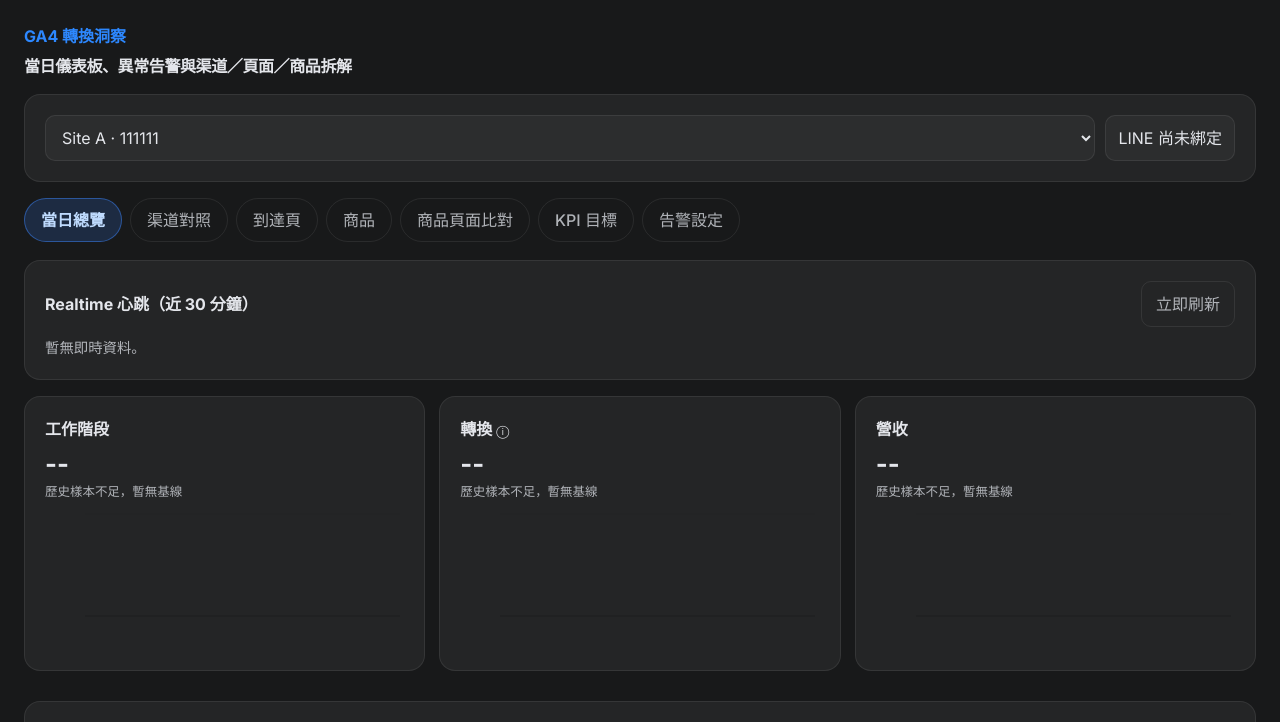
Test case: GA4Insights（docs/66 分頁狀態抽 hook） › 切換 GA4 屬性會清掉兩個分頁的快照與篩選，回到該分頁時重新載入
Click the button "到達頁": coordinates (277, 220) left=236, top=198, right=318, bottom=242
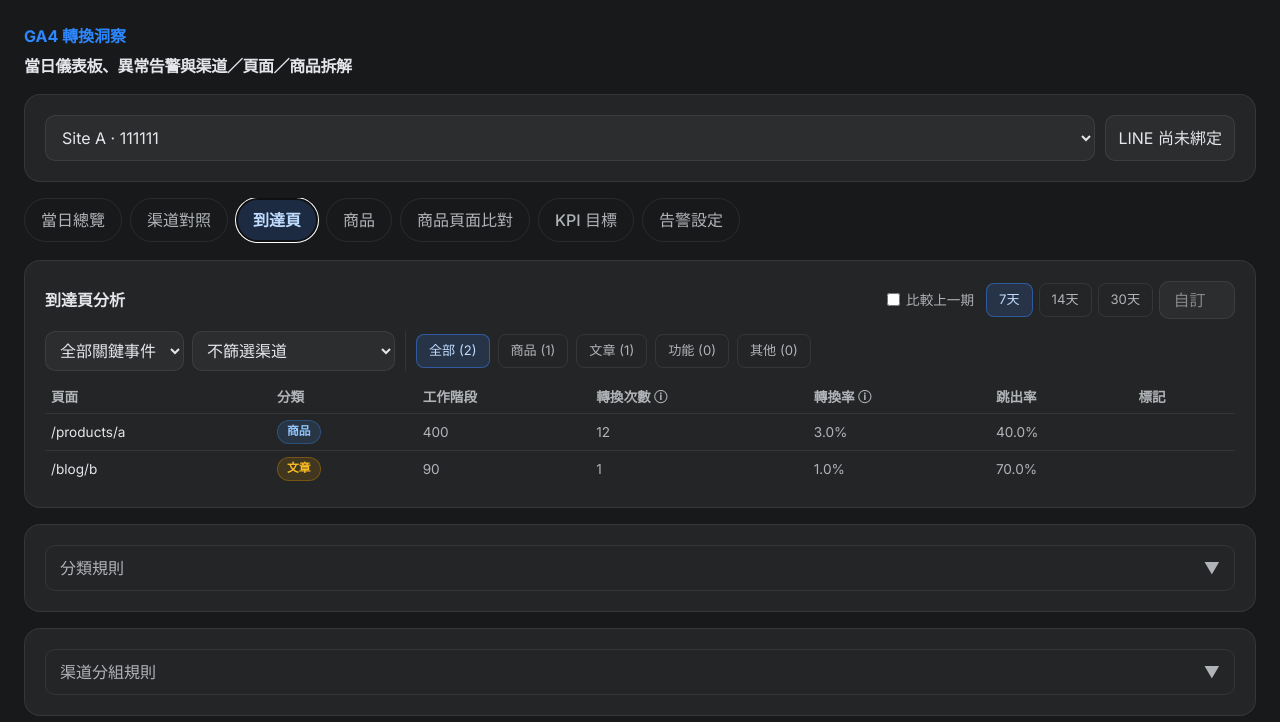
Click the button "文章 (1)": coordinates (612, 351) left=576, top=334, right=647, bottom=368
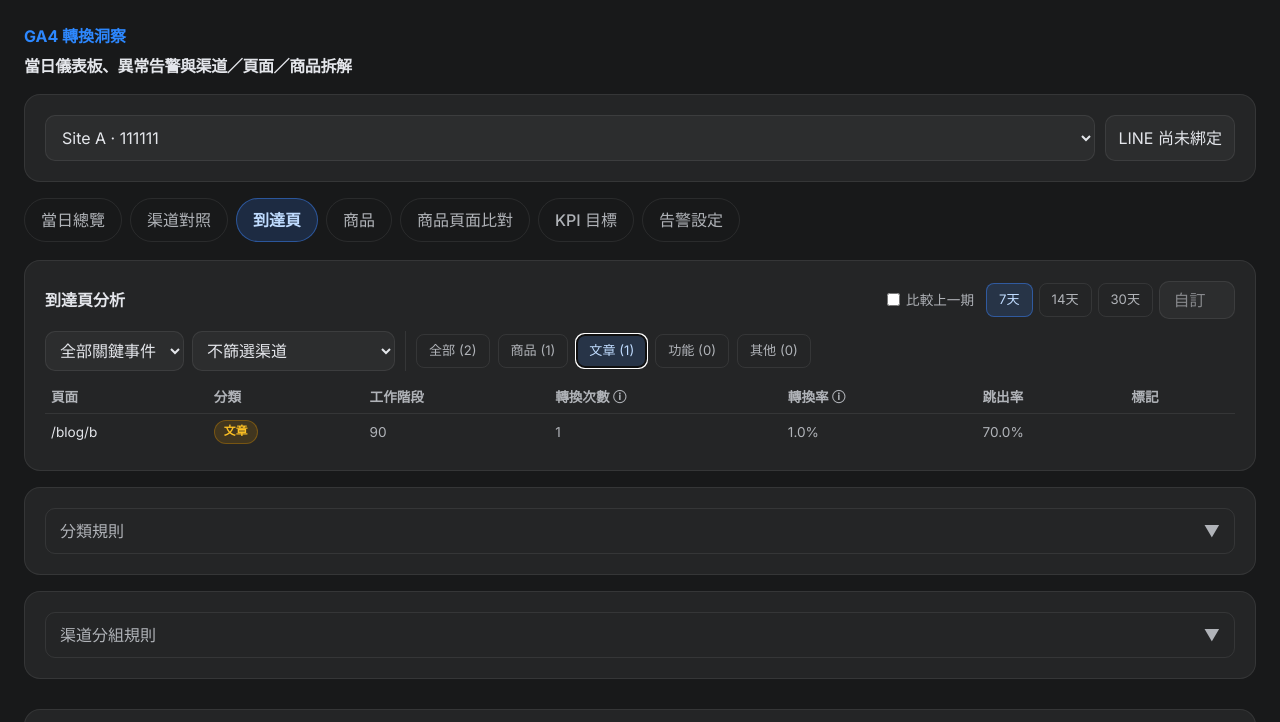
Select "Site B · 222222" in the dropdown next to "LINE 尚未綁定": coordinates (570, 138) left=45, top=115, right=1096, bottom=161
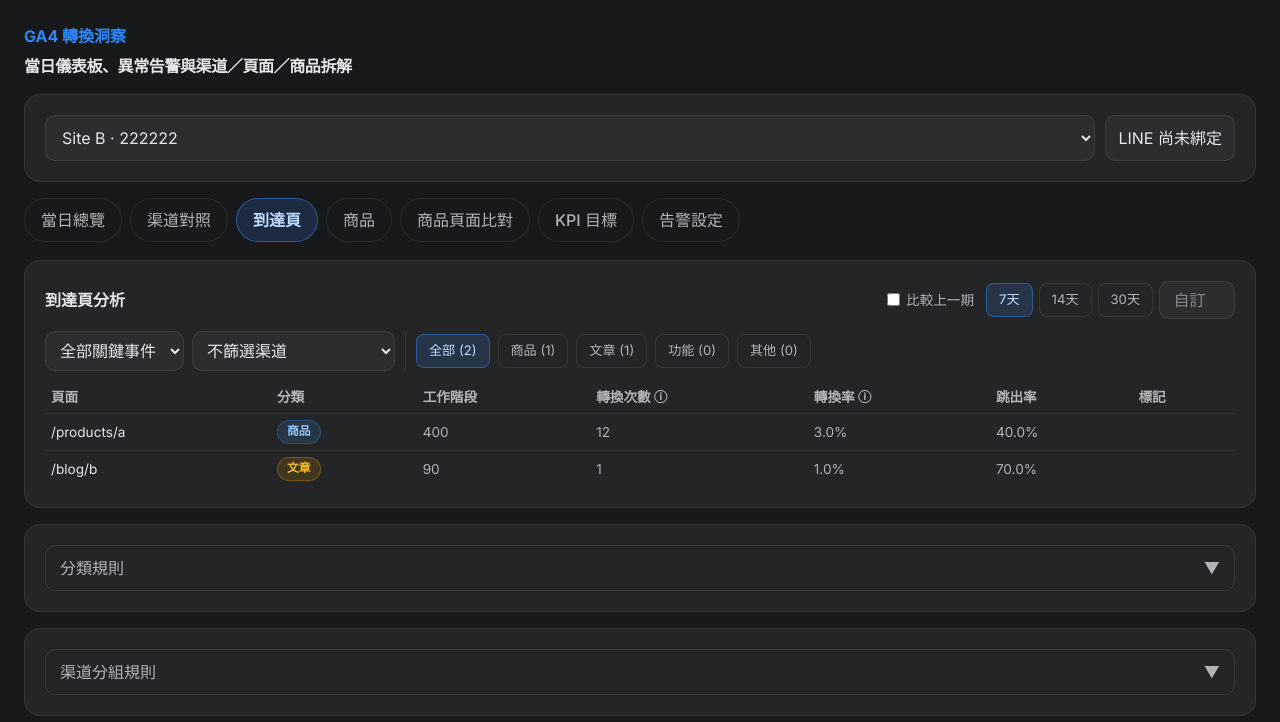
Result: the text "/blog/b" is shown at left=45, top=451, right=271, bottom=487
Result: the text "/products/a" is shown at left=45, top=414, right=271, bottom=451
